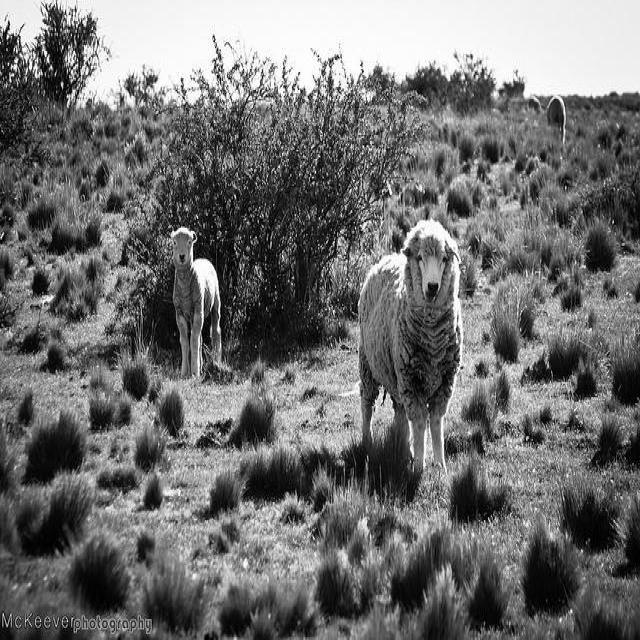Sheep: (360, 220, 463, 477), (166, 225, 221, 378)
